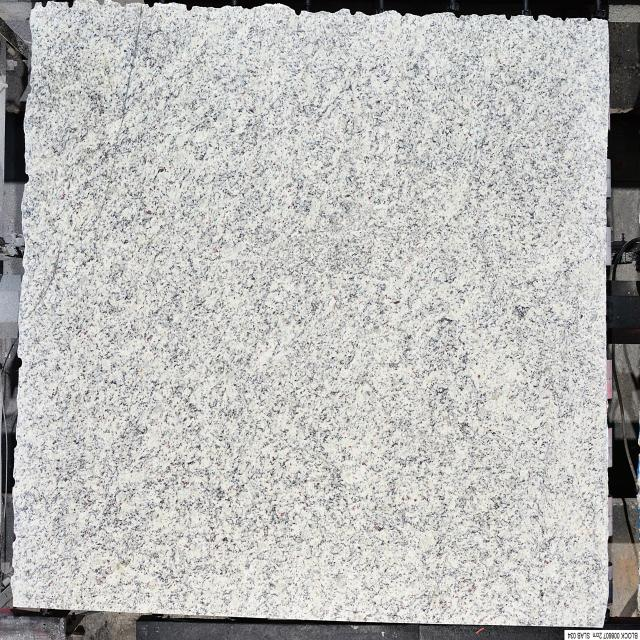chapa: (12, 2, 609, 626)
veio: (15, 353, 24, 371), (292, 4, 302, 18), (24, 171, 31, 187), (185, 1, 194, 12), (64, 0, 74, 8), (41, 0, 47, 12)
